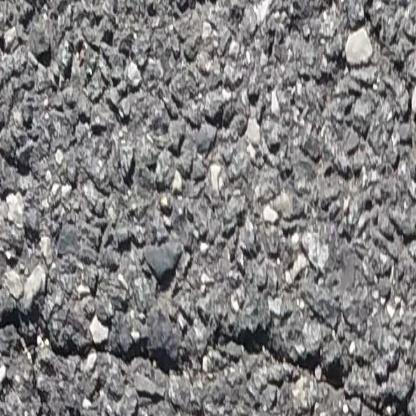Cracks: (0, 289, 416, 416), (401, 78, 416, 170)
